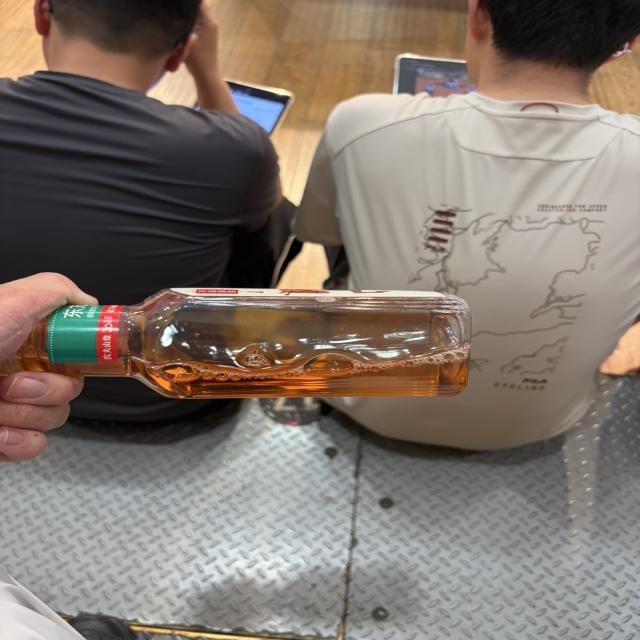medium: (0, 290, 470, 399)
